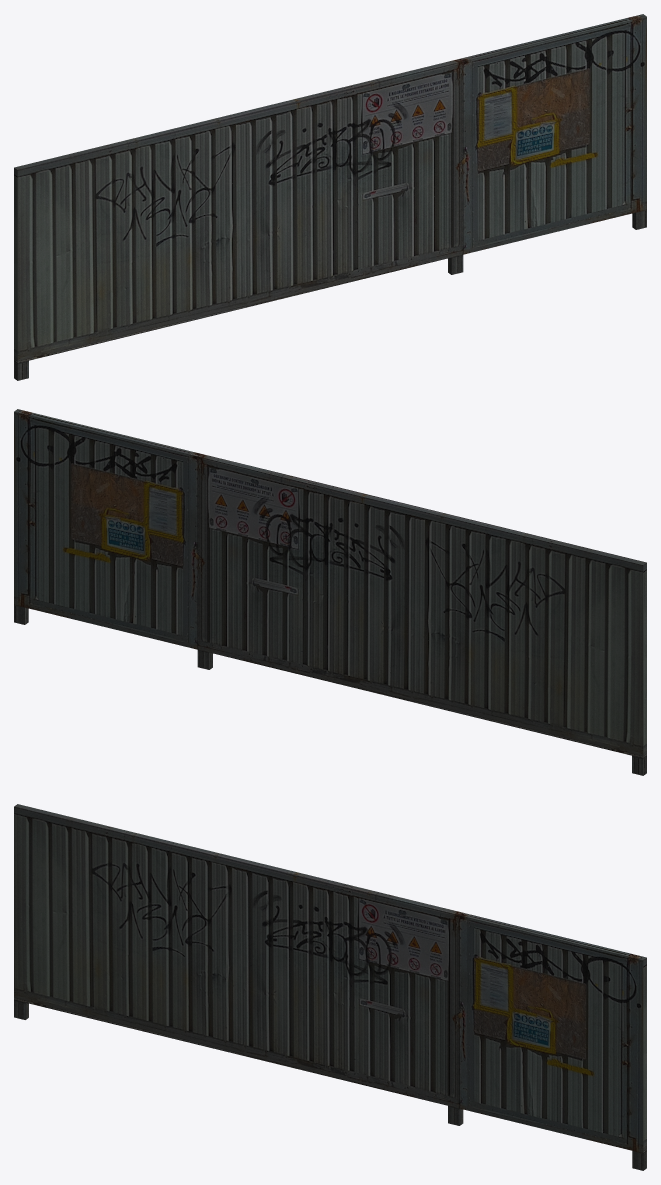
Rendered from gate_1.dae.
The picture shows the model from 3 angles, top to bottom: view 1: azimuth 30°, elevation 25°; view 2: azimuth 150°, elevation 25°; view 3: azimuth 330°, elevation 25°; orthographic projection.
Parts seen in each view (by area): view 1: gate_1; view 2: gate_1; view 3: gate_1.
Boxes of the visible parts, x1=… form: gate_1: x1=14, y1=14, x2=646, y2=380; gate_1: x1=14, y1=409, x2=646, y2=775; gate_1: x1=14, y1=804, x2=646, y2=1170.
Size of the model in its own units: 5 by 0.05 by 1.6.
Materials: 1 (1 with a texture image).
